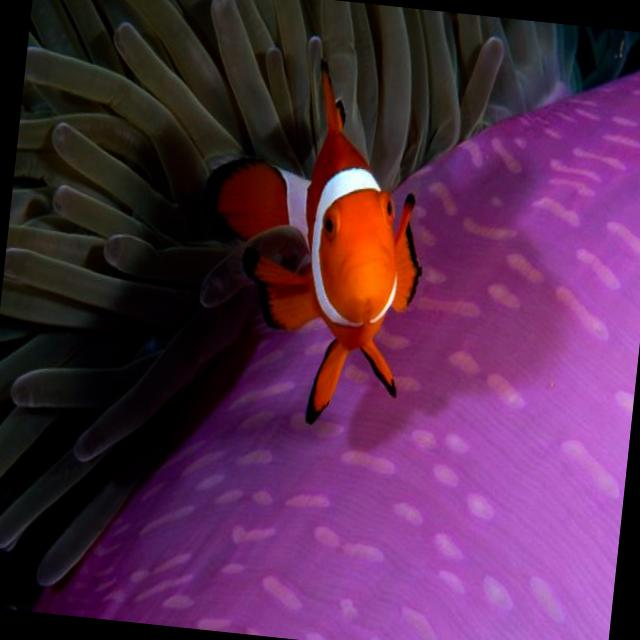ClownFish: (185, 51, 442, 433)
